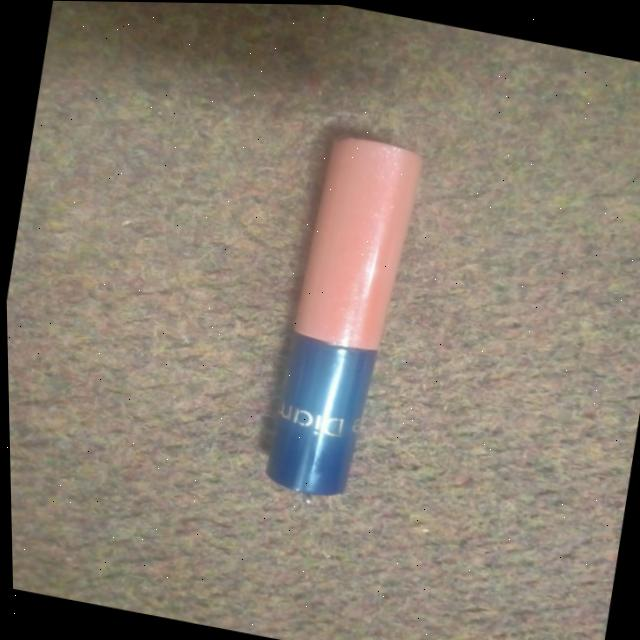lip gloss: (229, 93, 442, 522)
